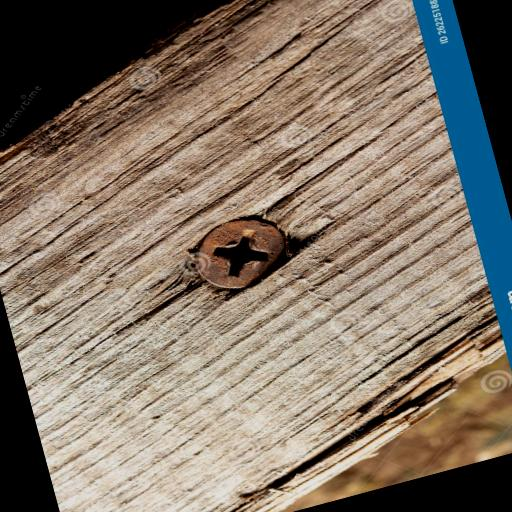Phillips: (182, 204, 297, 301)
